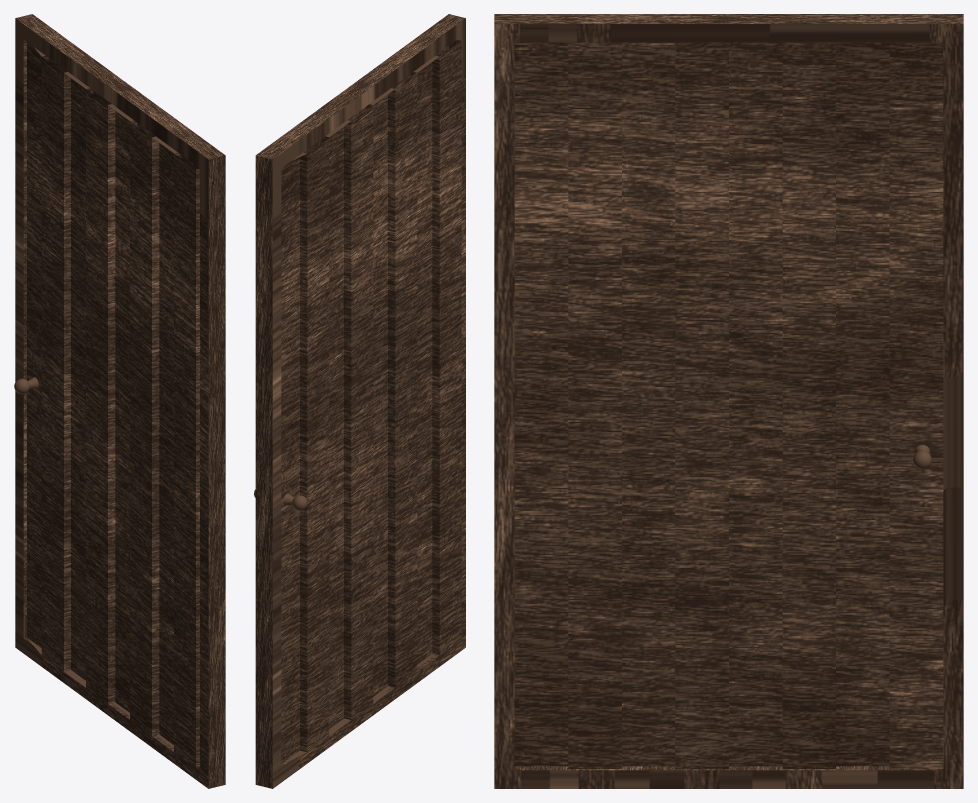
Rendered from Puerta.fbx.
The picture shows the model from 3 angles, left to right: view 1: azimuth 30°, elevation 25°; view 2: azimuth 150°, elevation 25°; view 3: azimuth 270°, elevation 25°; orthographic projection. The views are drawn at different scales.
Visible parts, largest first — view 1: Puerta; view 2: Puerta; view 3: Puerta.
Boxes of the visible parts, x1,y1,x2,y2 form: Puerta: (14, 14, 225, 788); Puerta: (254, 14, 465, 788); Puerta: (494, 14, 963, 788).
Bounding box in the file's own units: 17.75 × 206 × 115.
Materials: 1 (1 with a texture image).
